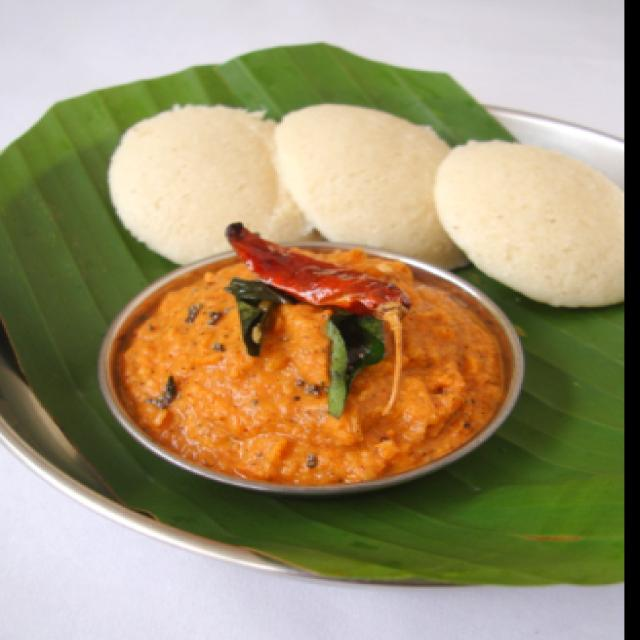tomato chutney: (86, 254, 540, 473)
